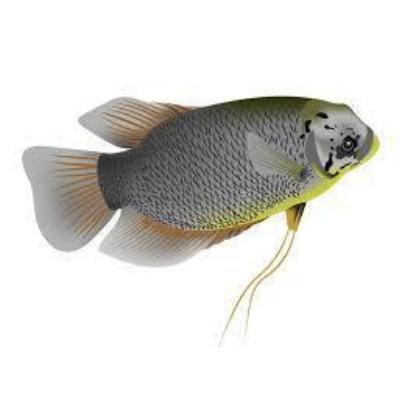gurame: (26, 89, 382, 287)
